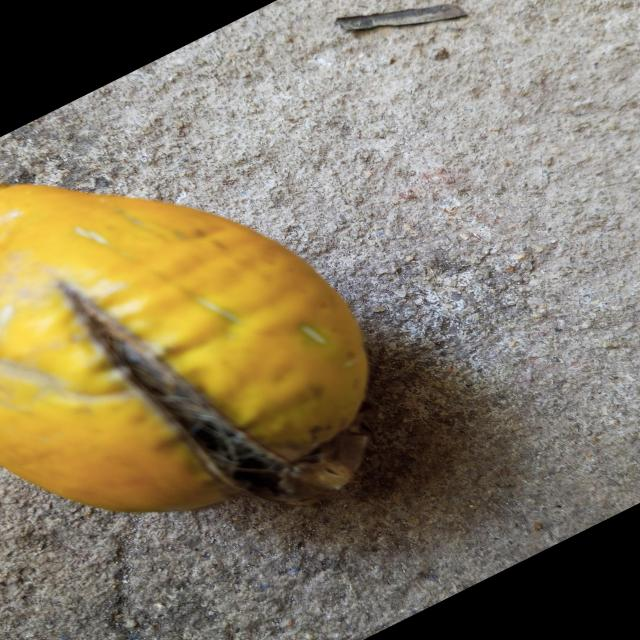damaged: (0, 183, 369, 512)
